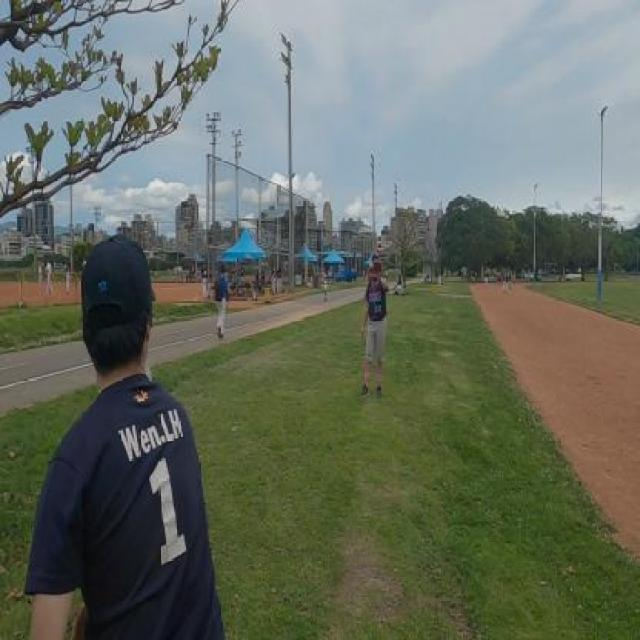baseball: (369, 262, 374, 270)
